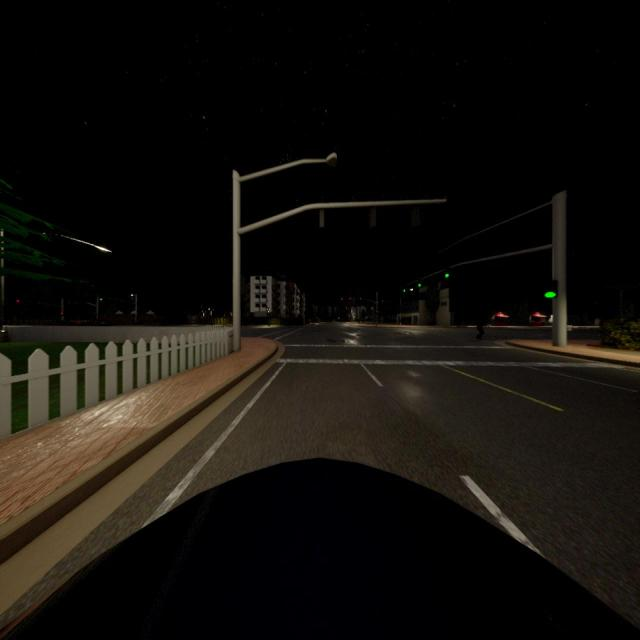Pedestrian: (476, 310, 486, 340)
Vehicle: (0, 455, 640, 640)
traffic_light: (544, 280, 558, 299), (412, 203, 420, 225), (371, 205, 377, 226), (319, 208, 324, 228), (444, 267, 450, 278), (418, 279, 422, 288), (16, 298, 20, 304), (99, 297, 103, 302), (60, 311, 63, 316), (402, 289, 406, 292), (376, 310, 378, 314), (341, 298, 343, 300), (349, 298, 351, 300), (360, 298, 361, 300)
